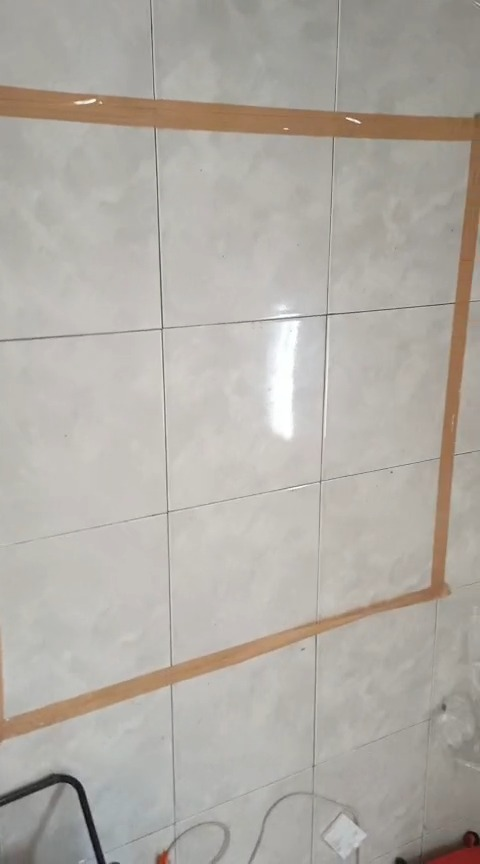floor marking: (1, 86, 479, 737)
